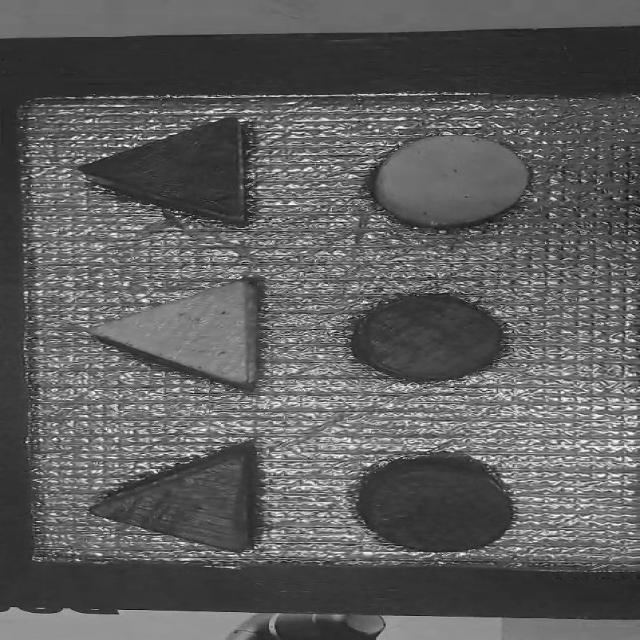bcircle: (338, 454, 556, 560)
btriangle: (61, 109, 287, 239)
rcircle: (341, 287, 513, 387)
rtriangle: (78, 440, 271, 564)
ycircle: (359, 125, 541, 241)
ytriangle: (75, 276, 280, 398)
